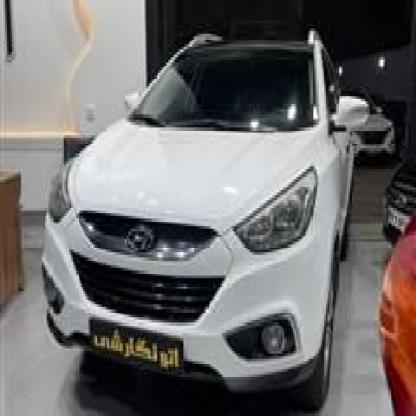Car: (42, 26, 355, 413), (376, 138, 416, 260), (340, 81, 400, 161)
